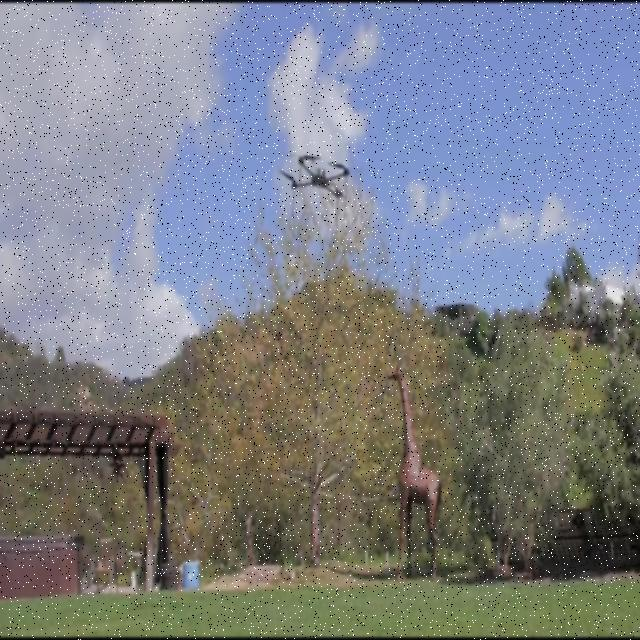UAV: (280, 154, 350, 228)
